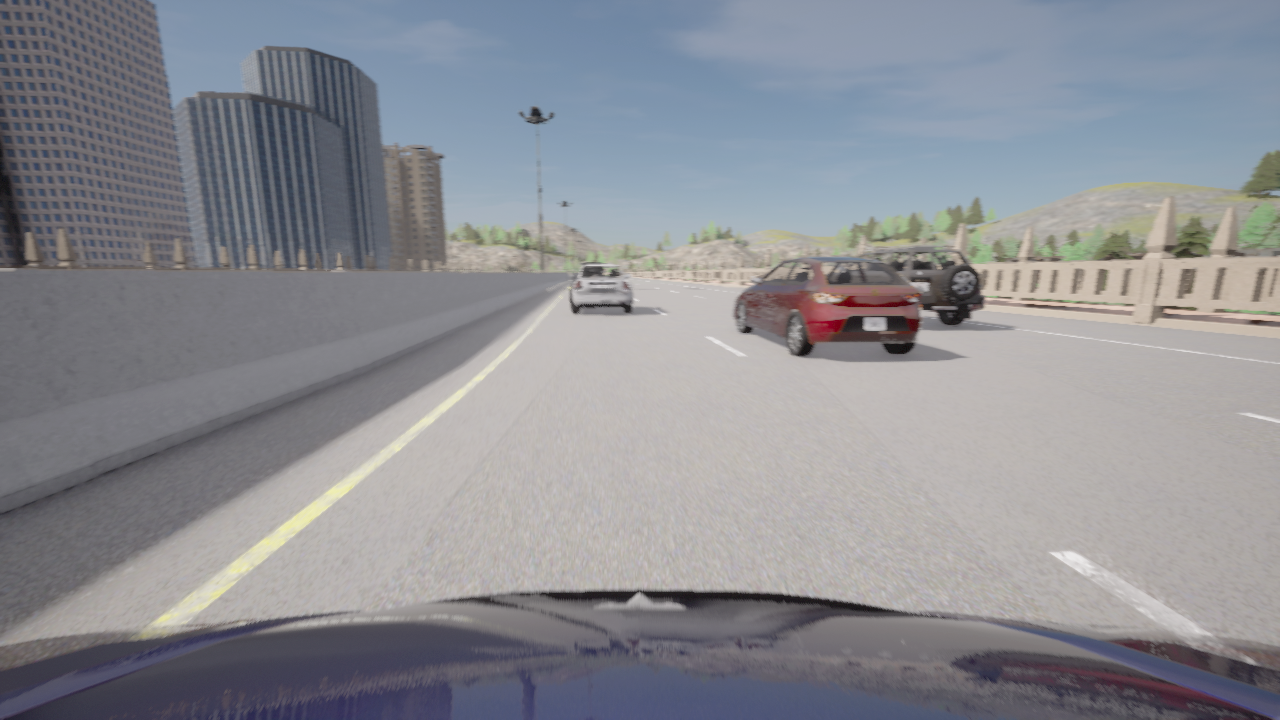cyclist: (0, 588, 1279, 719), (733, 256, 922, 356), (858, 245, 984, 325), (570, 264, 633, 313), (582, 263, 601, 264)
